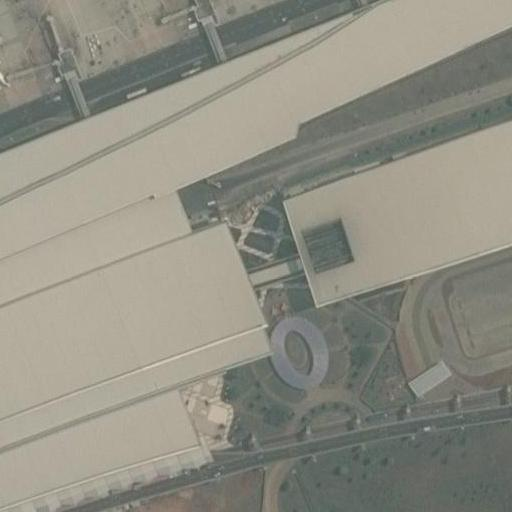Aircraft: (0, 33, 22, 92)
